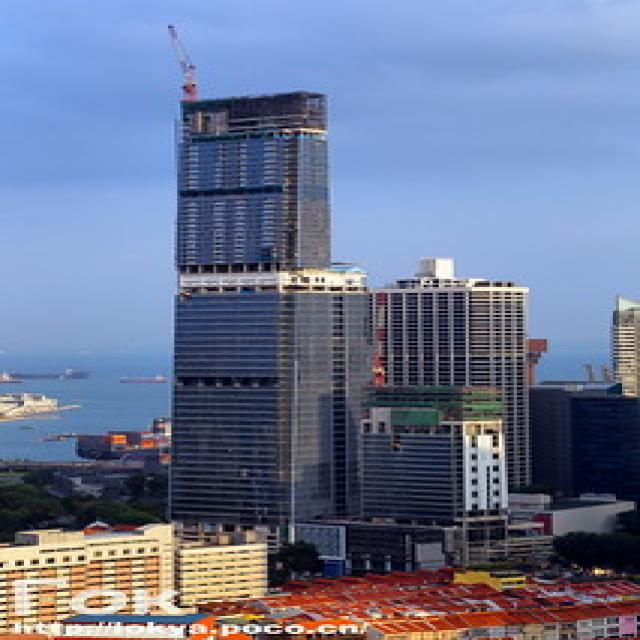building: (164, 87, 377, 537), (375, 274, 541, 543)
